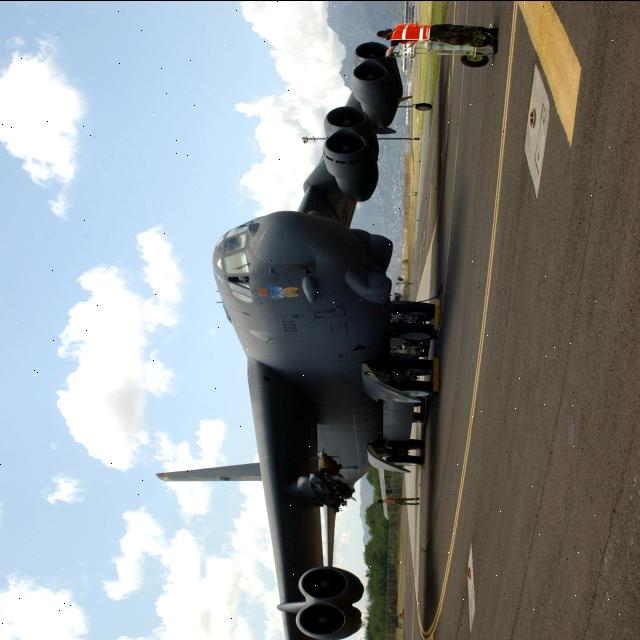B52: (147, 26, 464, 640)
